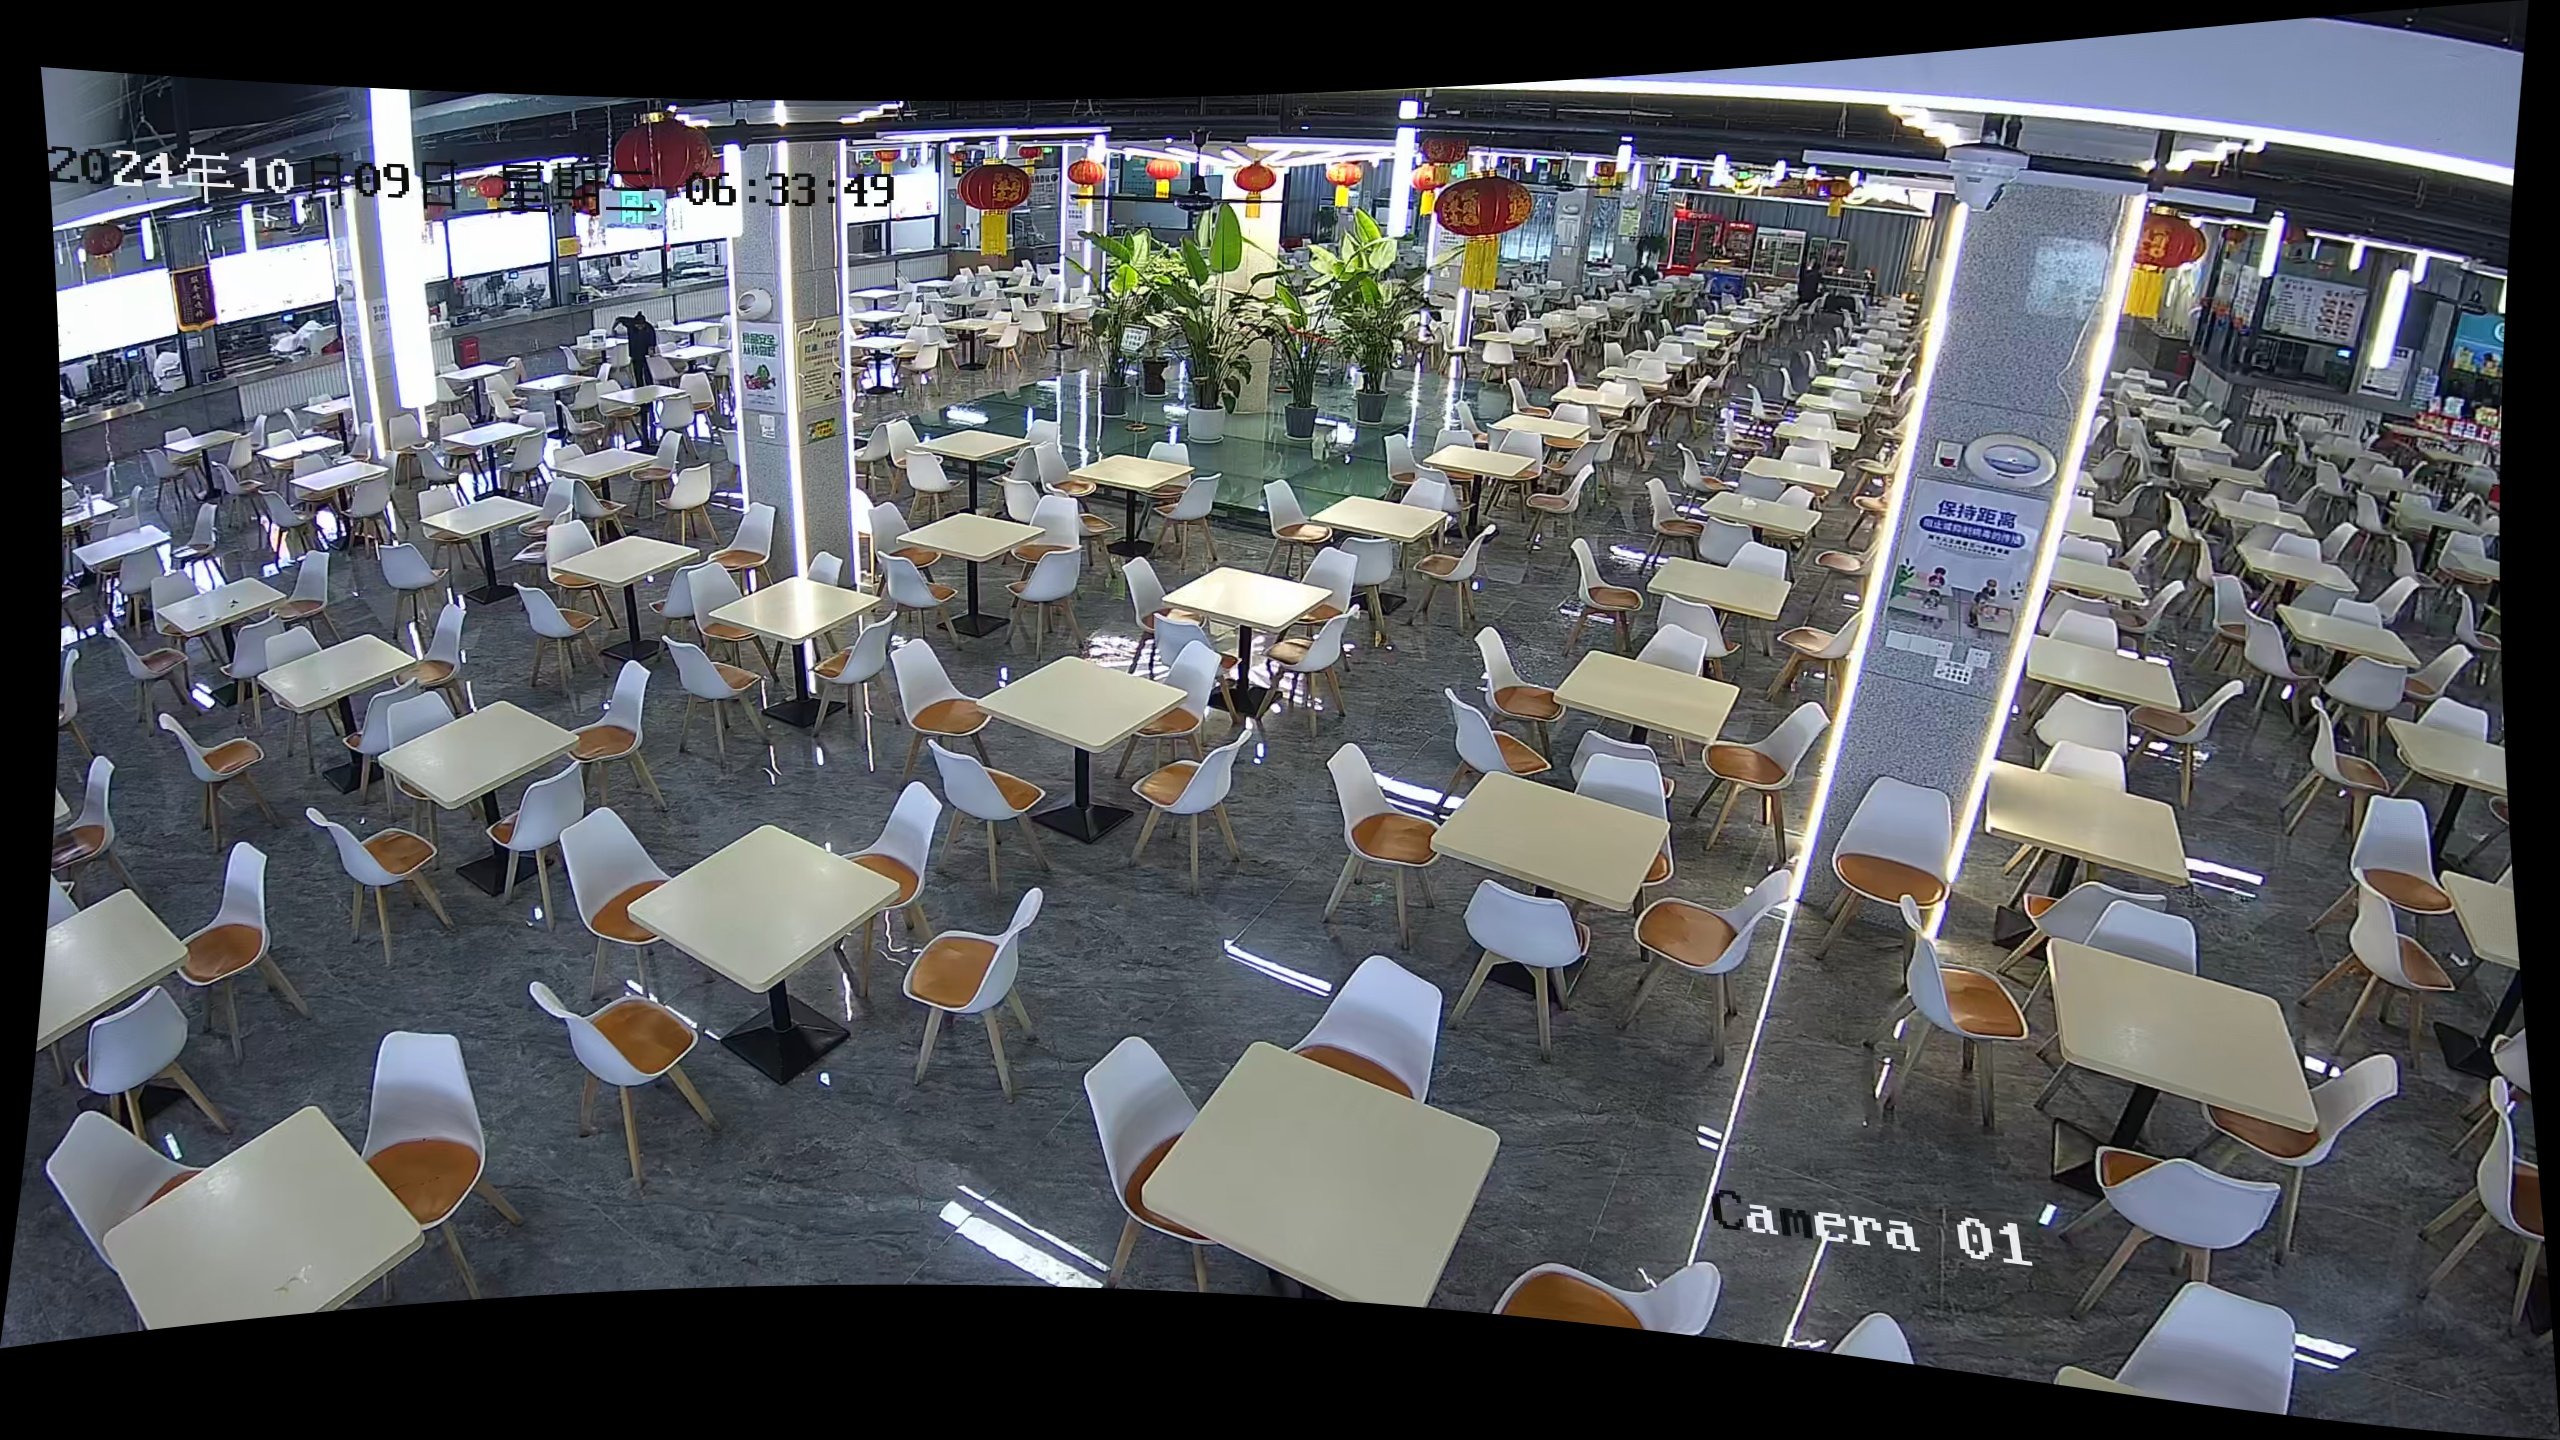a_set: (1094, 981, 1602, 1315), (47, 1065, 519, 1347), (571, 812, 995, 1078), (1987, 897, 2353, 1180), (1373, 723, 1734, 993), (934, 619, 1238, 855), (348, 700, 622, 904), (1507, 619, 1799, 779), (26, 877, 246, 1065), (1967, 753, 2236, 897), (1125, 536, 1359, 679), (695, 564, 907, 709), (227, 628, 447, 753), (2018, 610, 2215, 742), (1284, 478, 1496, 587), (1605, 540, 1829, 642)
